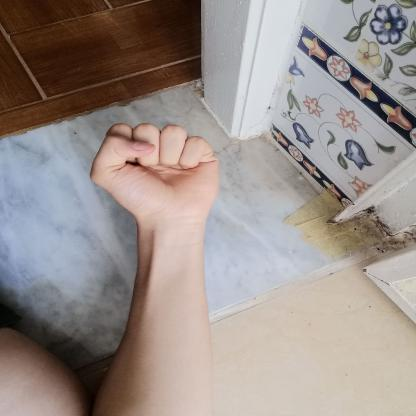SAD: (73, 109, 238, 238)
